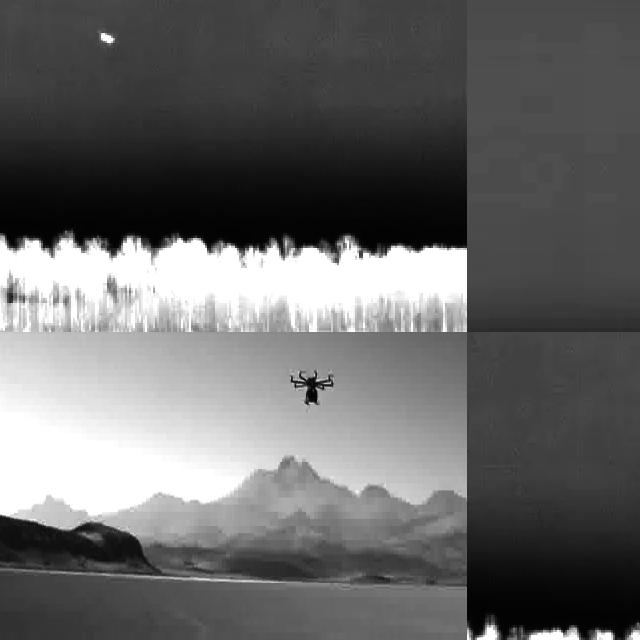1: (87, 26, 123, 56)
drone: (288, 366, 334, 410)
